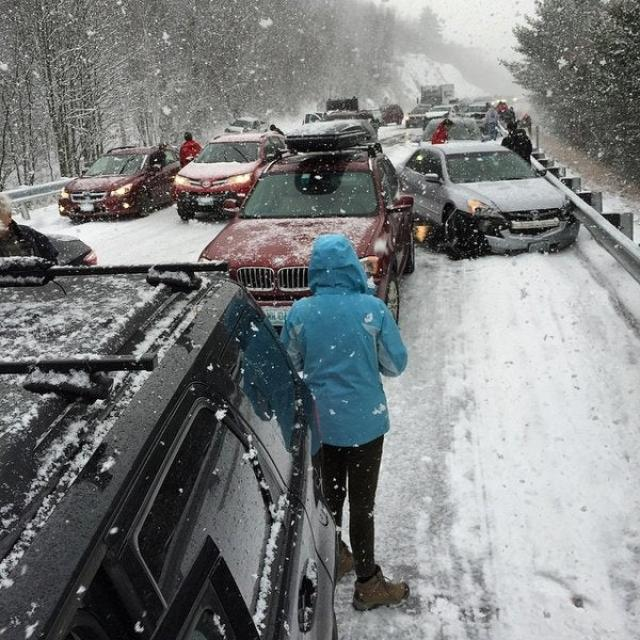Accident: (199, 137, 585, 323)
